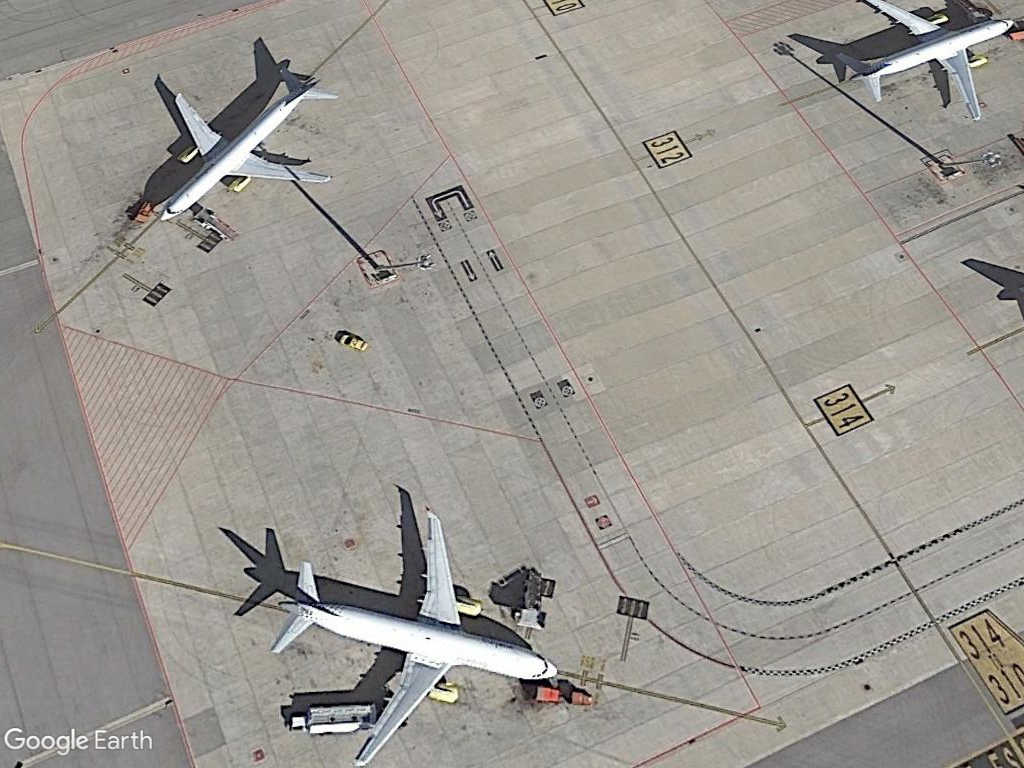airliner: (272, 503, 559, 766), (140, 61, 342, 224), (826, 0, 1014, 122)
